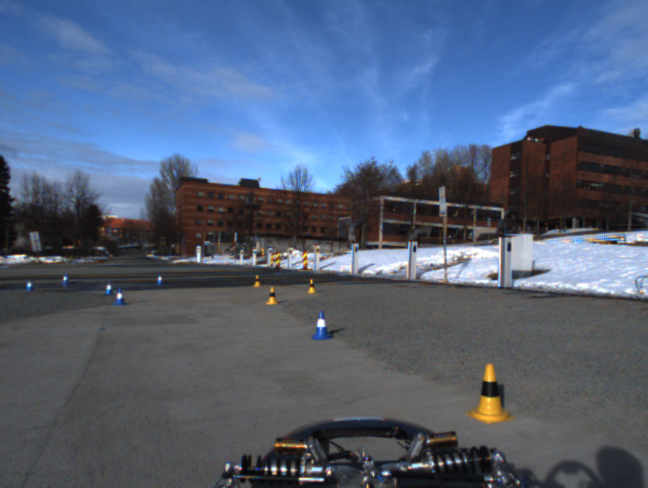cone-small-blue: (310, 311, 332, 340), (114, 289, 127, 306), (104, 281, 114, 297), (156, 273, 165, 286), (61, 274, 70, 287), (26, 279, 35, 292)
cone-small-yellow: (464, 361, 514, 424), (266, 286, 279, 305), (306, 278, 316, 294), (252, 275, 261, 287)
